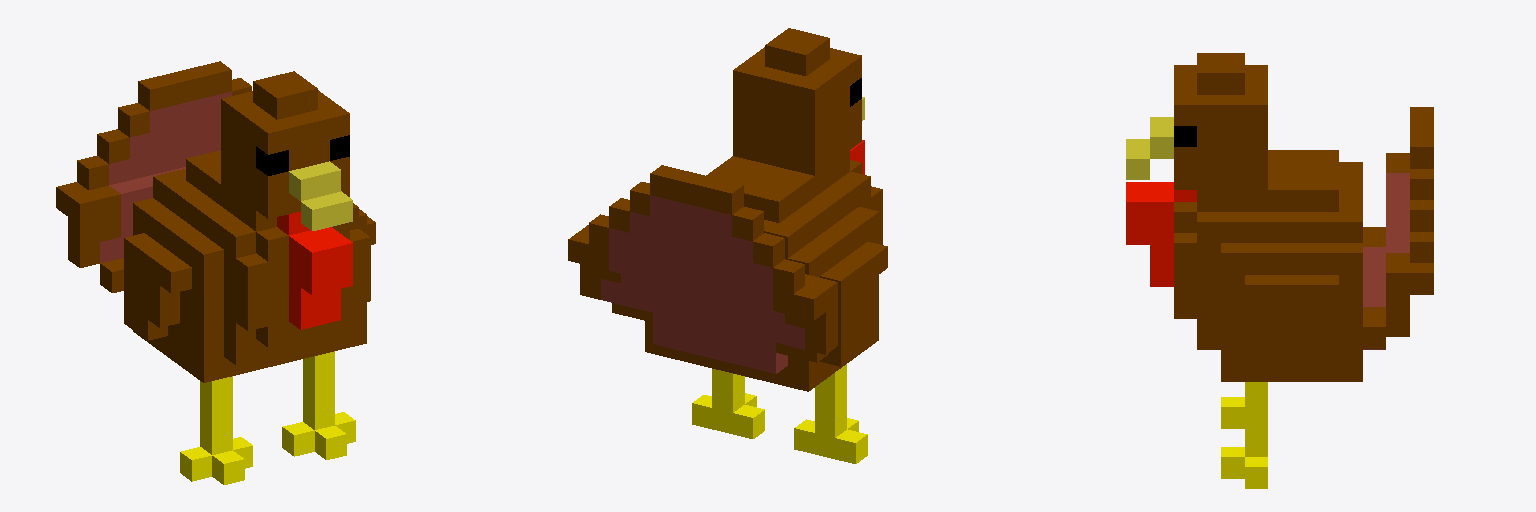
The picture shows the model from 3 angles: view 1: azimuth 30°, elevation 25°; view 2: azimuth 150°, elevation 25°; view 3: azimuth 270°, elevation 25°; orthographic projection.
Parts seen in each view (by area): view 1: object 1; view 2: object 1; view 3: object 1.
Part boxes in pixels (bbox=[...]): object 1: bbox=[56, 61, 375, 484]; object 1: bbox=[568, 28, 887, 463]; object 1: bbox=[1126, 53, 1433, 488].
Bounding box in the file's own units: 1.2 × 1.8 × 1.3.
Materials: 1 (1 with a texture image).